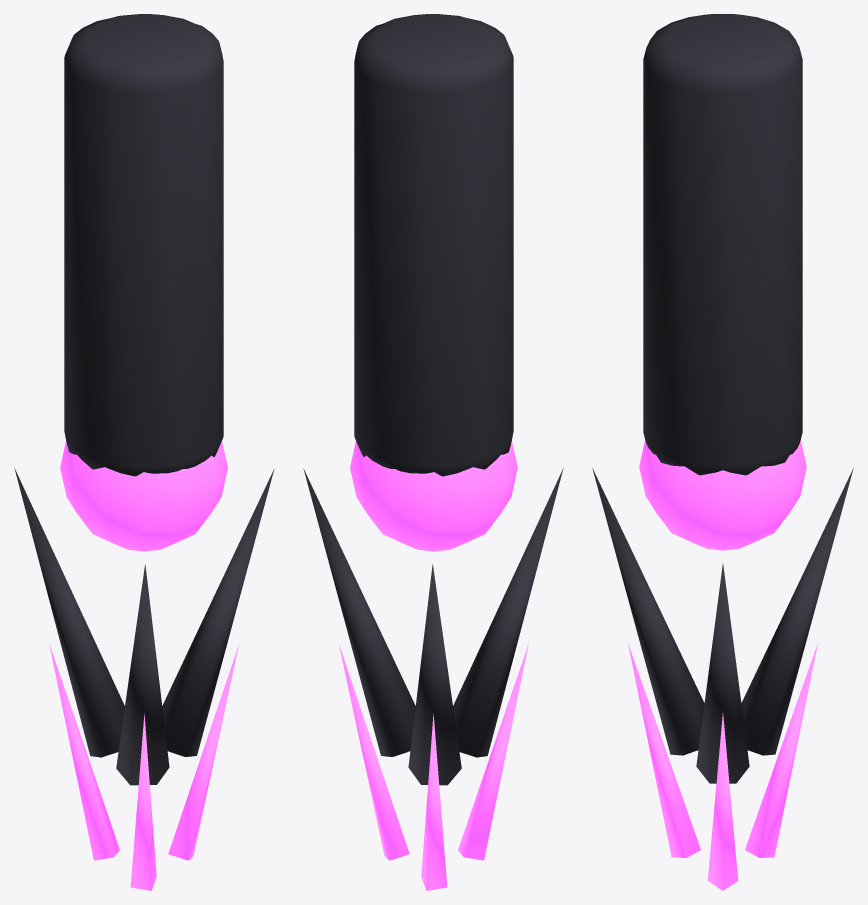
The model's file is weapon_mecanico_epica.glb.
The picture shows the model from 3 angles, left to right: view 1: azimuth 30°, elevation 25°; view 2: azimuth 150°, elevation 25°; view 3: azimuth 270°, elevation 25°; orthographic projection.
Parts seen in each view (by area): view 1: weapon_mecanico_epica; view 2: weapon_mecanico_epica; view 3: weapon_mecanico_epica.
Part boxes in pixels (x1,y1,x2,y2): weapon_mecanico_epica: [14, 14, 274, 890]; weapon_mecanico_epica: [303, 14, 563, 890]; weapon_mecanico_epica: [592, 14, 853, 890].
Size of the model in its own units: 0.3079 by 1.2 by 0.3437.
